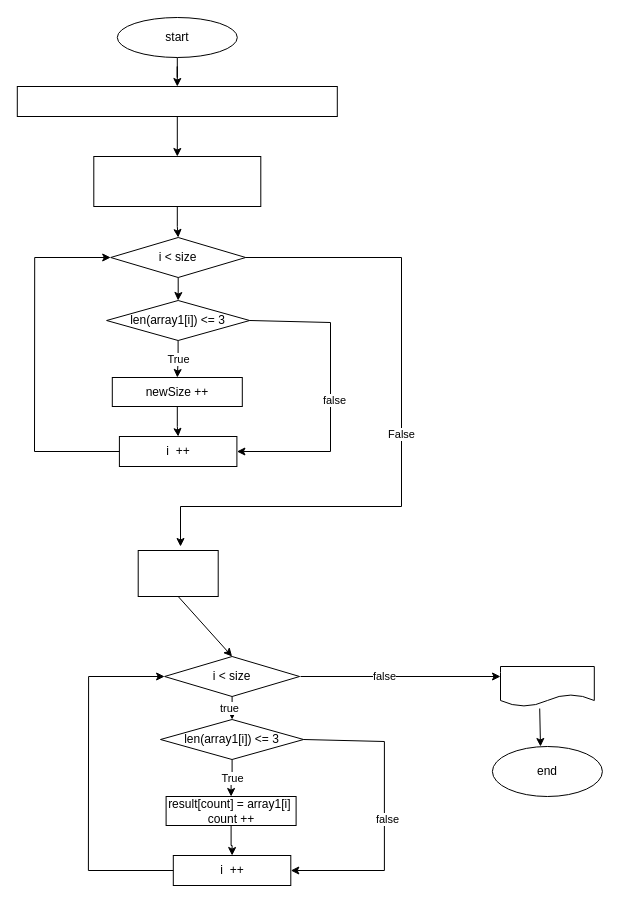
The diagram is 621 pixels wide and 911 high, and some of its shapes have lost their labels. The box of each missing label's shape, as (x1, y1, x2, y2) in pixels:
array1 =[s0, s1, s2, ..., sn]: (16, 86, 337, 116)
i = 0 count = 0: (137, 550, 218, 596)
result: (500, 666, 594, 706)
size = len(array1) i = 0 newSize = 0: (93, 156, 261, 206)
